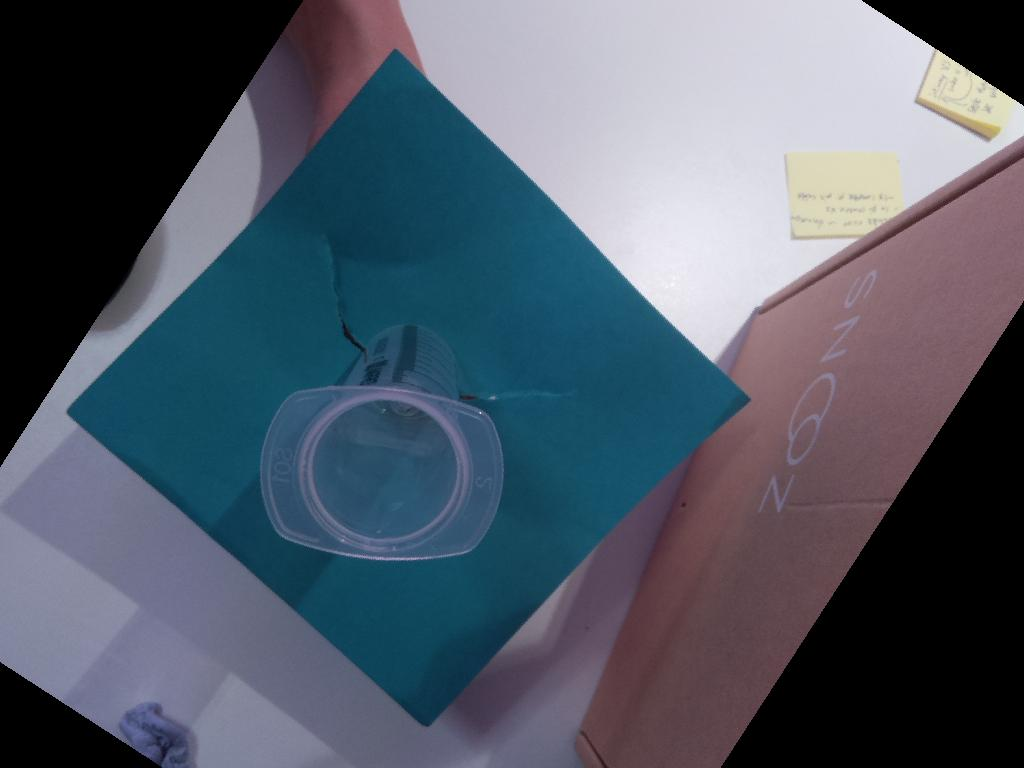clean: (255, 386, 509, 557)
